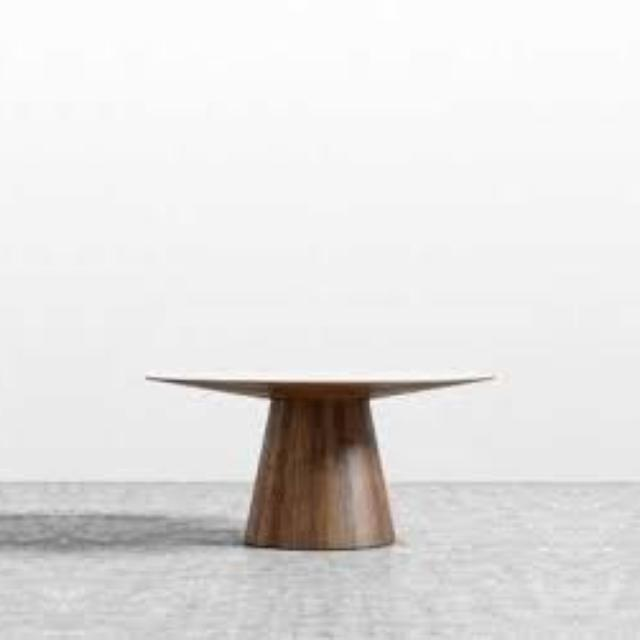obstacle: (126, 264, 508, 592)
